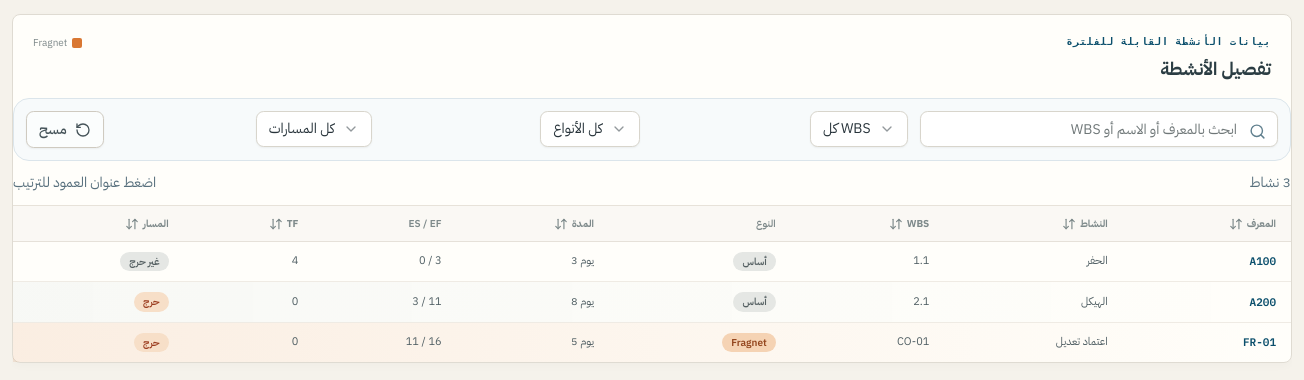
Scenario: جدول الأنشطة القابل للفلترة والترتيب › يبحث في الاسم ويعرض عداد النتائج ثم يعيد الضبط
Type "تعديل" into the field named "ابحث في الأنشطة" at (1099, 129), box [920,111,1278,147]
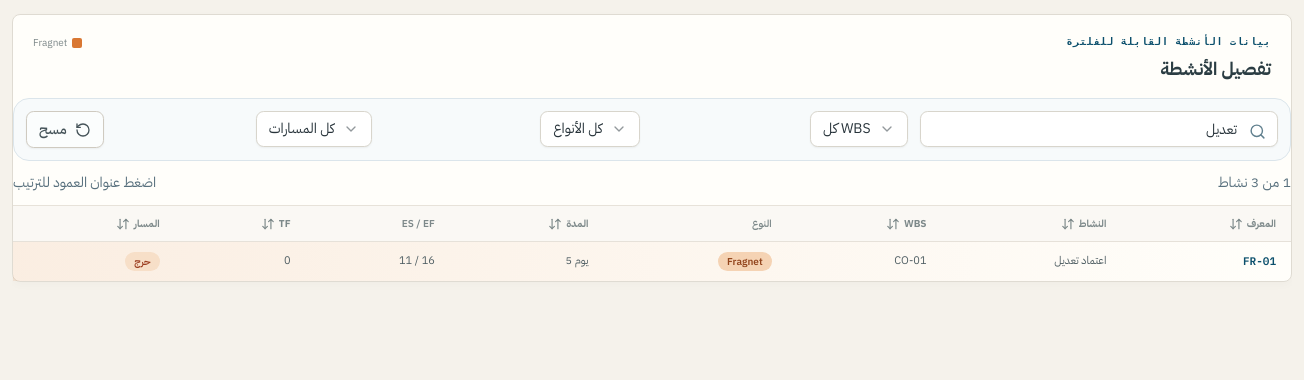
Expected: the text "اعتماد تعديل" is shown, [942,242,1121,281]
Expected: the message reads "1 من 3 نشاط", [1218,172,1291,193]
Expected: the text "الهيكل" is gone
Click the button "مسح" at (65, 130), box [26,111,104,148]
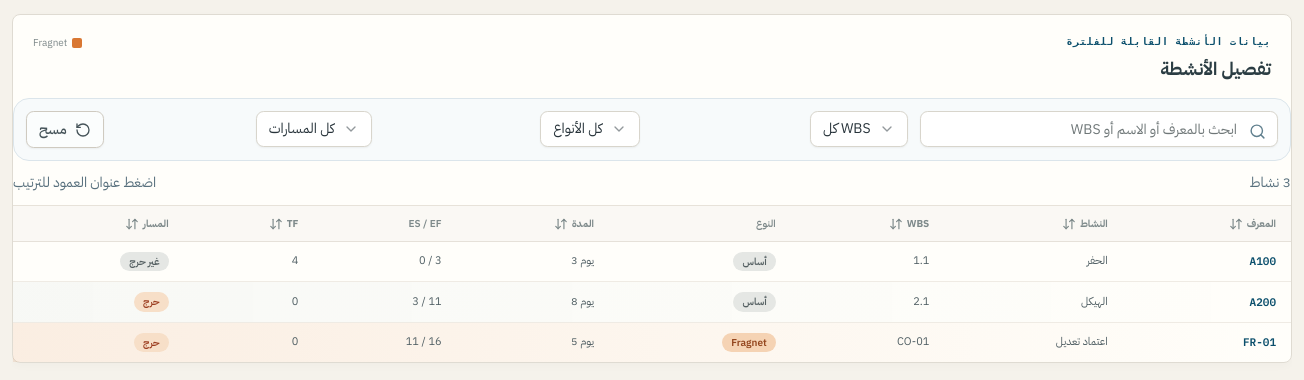
Expected: the message reads "3 نشاط", [1250,172,1291,193]
